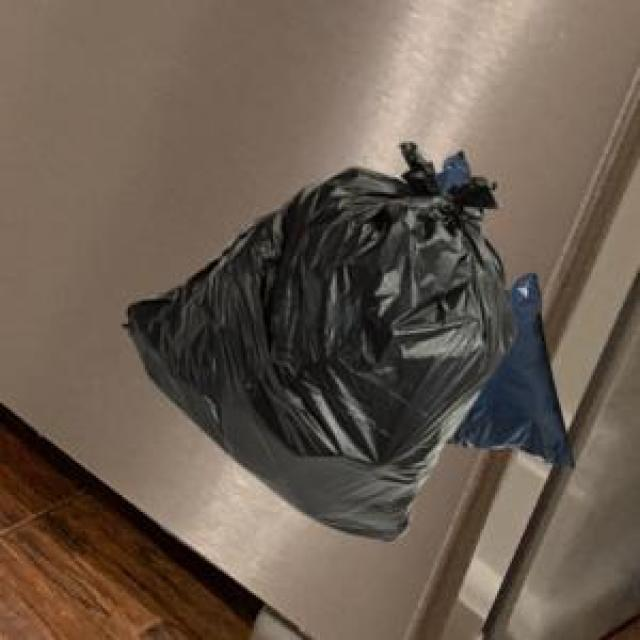miscellaneous trash: (117, 139, 512, 538), (431, 147, 570, 465)
